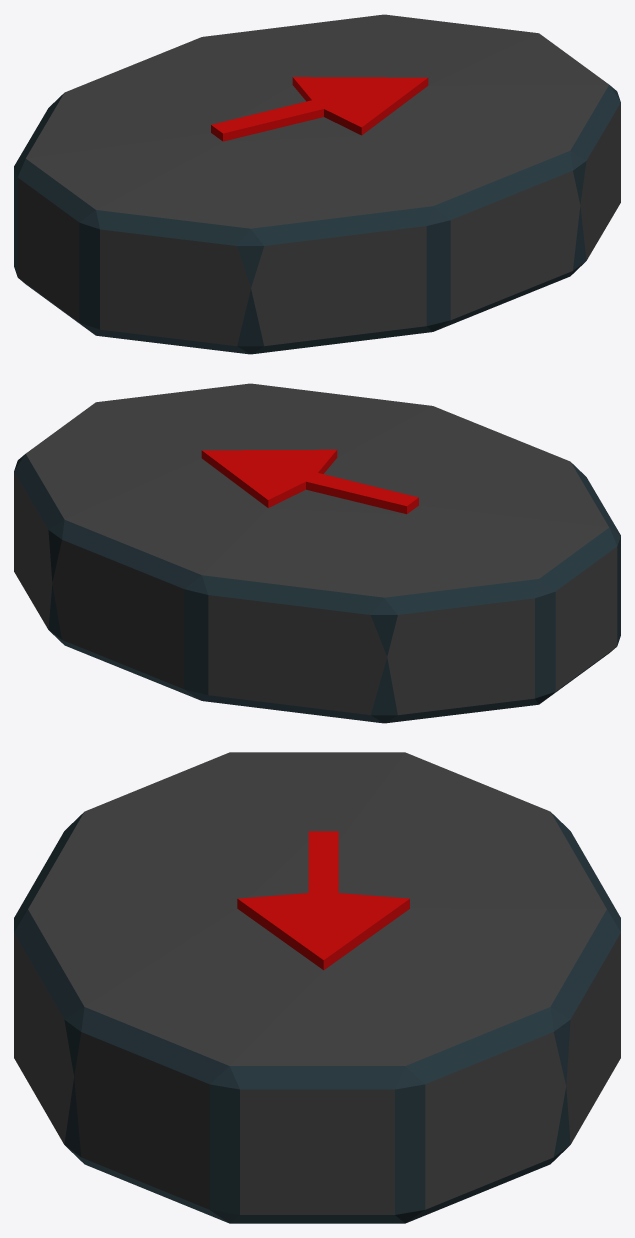
The model's file is copter2.obj.
3 views of the same model, one above another, from view 1: azimuth 30°, elevation 25°; view 2: azimuth 150°, elevation 25°; view 3: azimuth 270°, elevation 25° (orthographic). The views are drawn at different scales.
Visible parts, largest first — view 1: base_Цилиндр; view 2: base_Цилиндр; view 3: base_Цилиндр.
Boxes of the visible parts, left/top/right/bottom form: base_Цилиндр: left=14, top=14, right=620, bottom=354; base_Цилиндр: left=14, top=383, right=620, bottom=723; base_Цилиндр: left=14, top=752, right=620, bottom=1223.
Bounding box in the file's own units: 2.2 × 0.5489 × 1.72.
